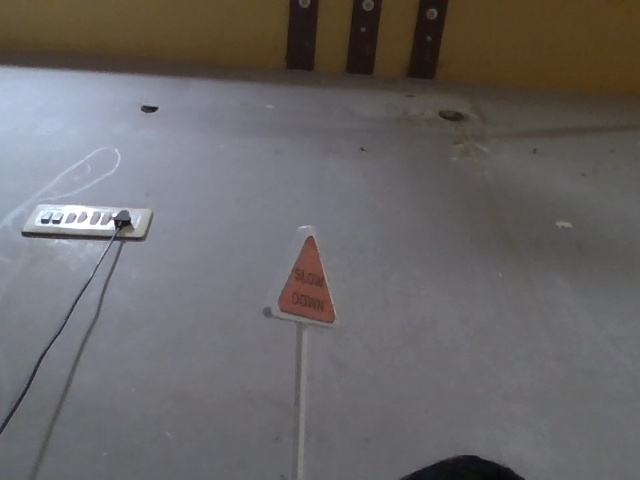slowdown: (239, 235, 358, 332)
